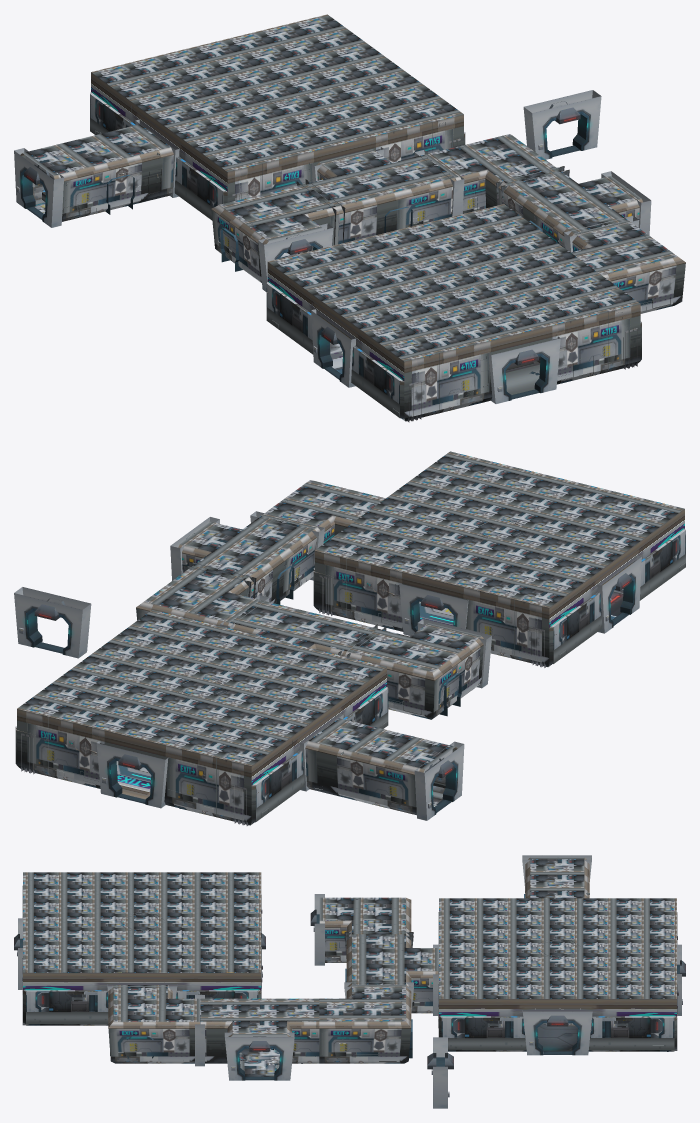
File: Combined_Mesh_root_scene__15_7f71ba4d__ZombiesII_laboratory_04_d_1b2a1172_c1f257.obj
The picture shows the model from 3 angles, top to bottom: view 1: azimuth 30°, elevation 25°; view 2: azimuth 150°, elevation 25°; view 3: azimuth 270°, elevation 25°; orthographic projection. The views are drawn at different scales.
Size of the model in its own units: 84.62 by 10.34 by 113.
Materials: 591 (591 with a texture image).
